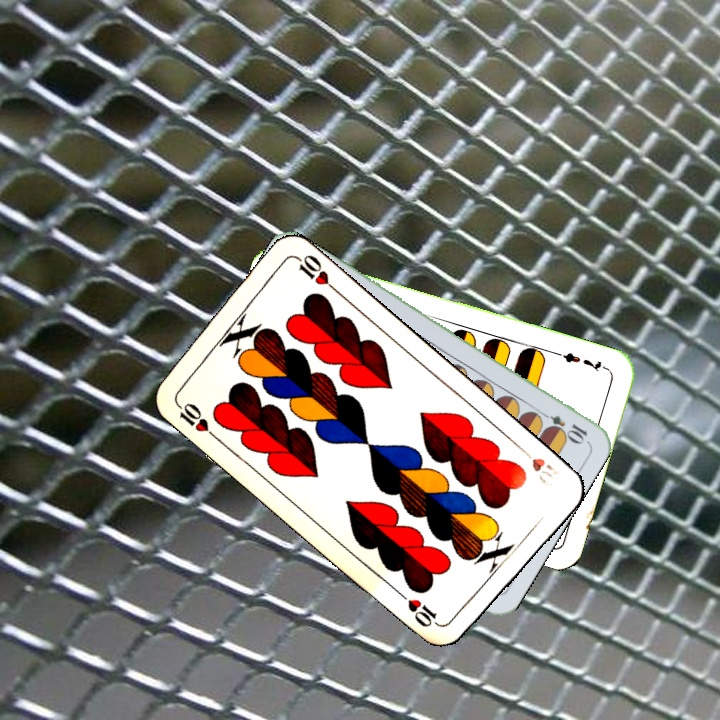E10: (534, 407, 590, 445)
E7: (553, 348, 611, 375)
H10: (515, 442, 563, 487), (171, 397, 219, 441)
